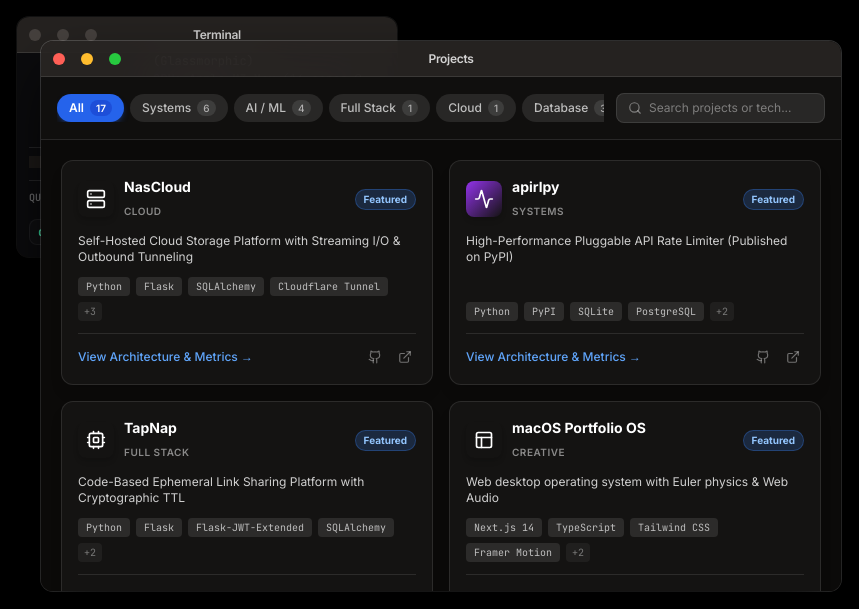
Test case: Tier 1: Window Management & Geometry › renders traffic lights with gray dots when unfocused and glyphs on hover (#23, #24, #12, #13, #14)
(page scrolled)
// Hover over traffic lights group on terminal
Hover over the element with test id "traffic-lights-group-terminal" at (63, 34), box [29, 28, 97, 40]
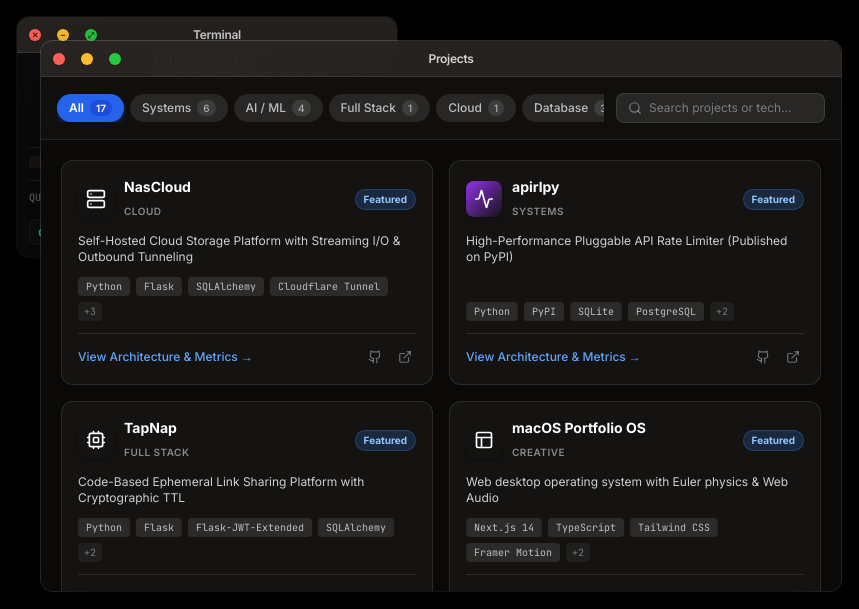
Result: the button with test id "traffic-light-close-terminal" reads "✕" at [29, 28, 41, 40]
Result: the button with test id "traffic-light-minimize-terminal" reads "−" at [57, 28, 69, 40]
Result: the button with test id "traffic-light-maximize-terminal" reads "⤢" at [85, 28, 97, 40]
